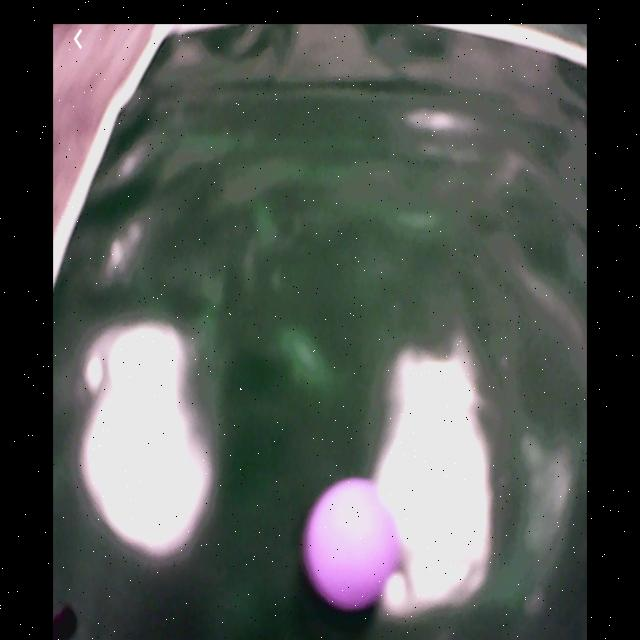ball: (303, 475, 404, 613)
